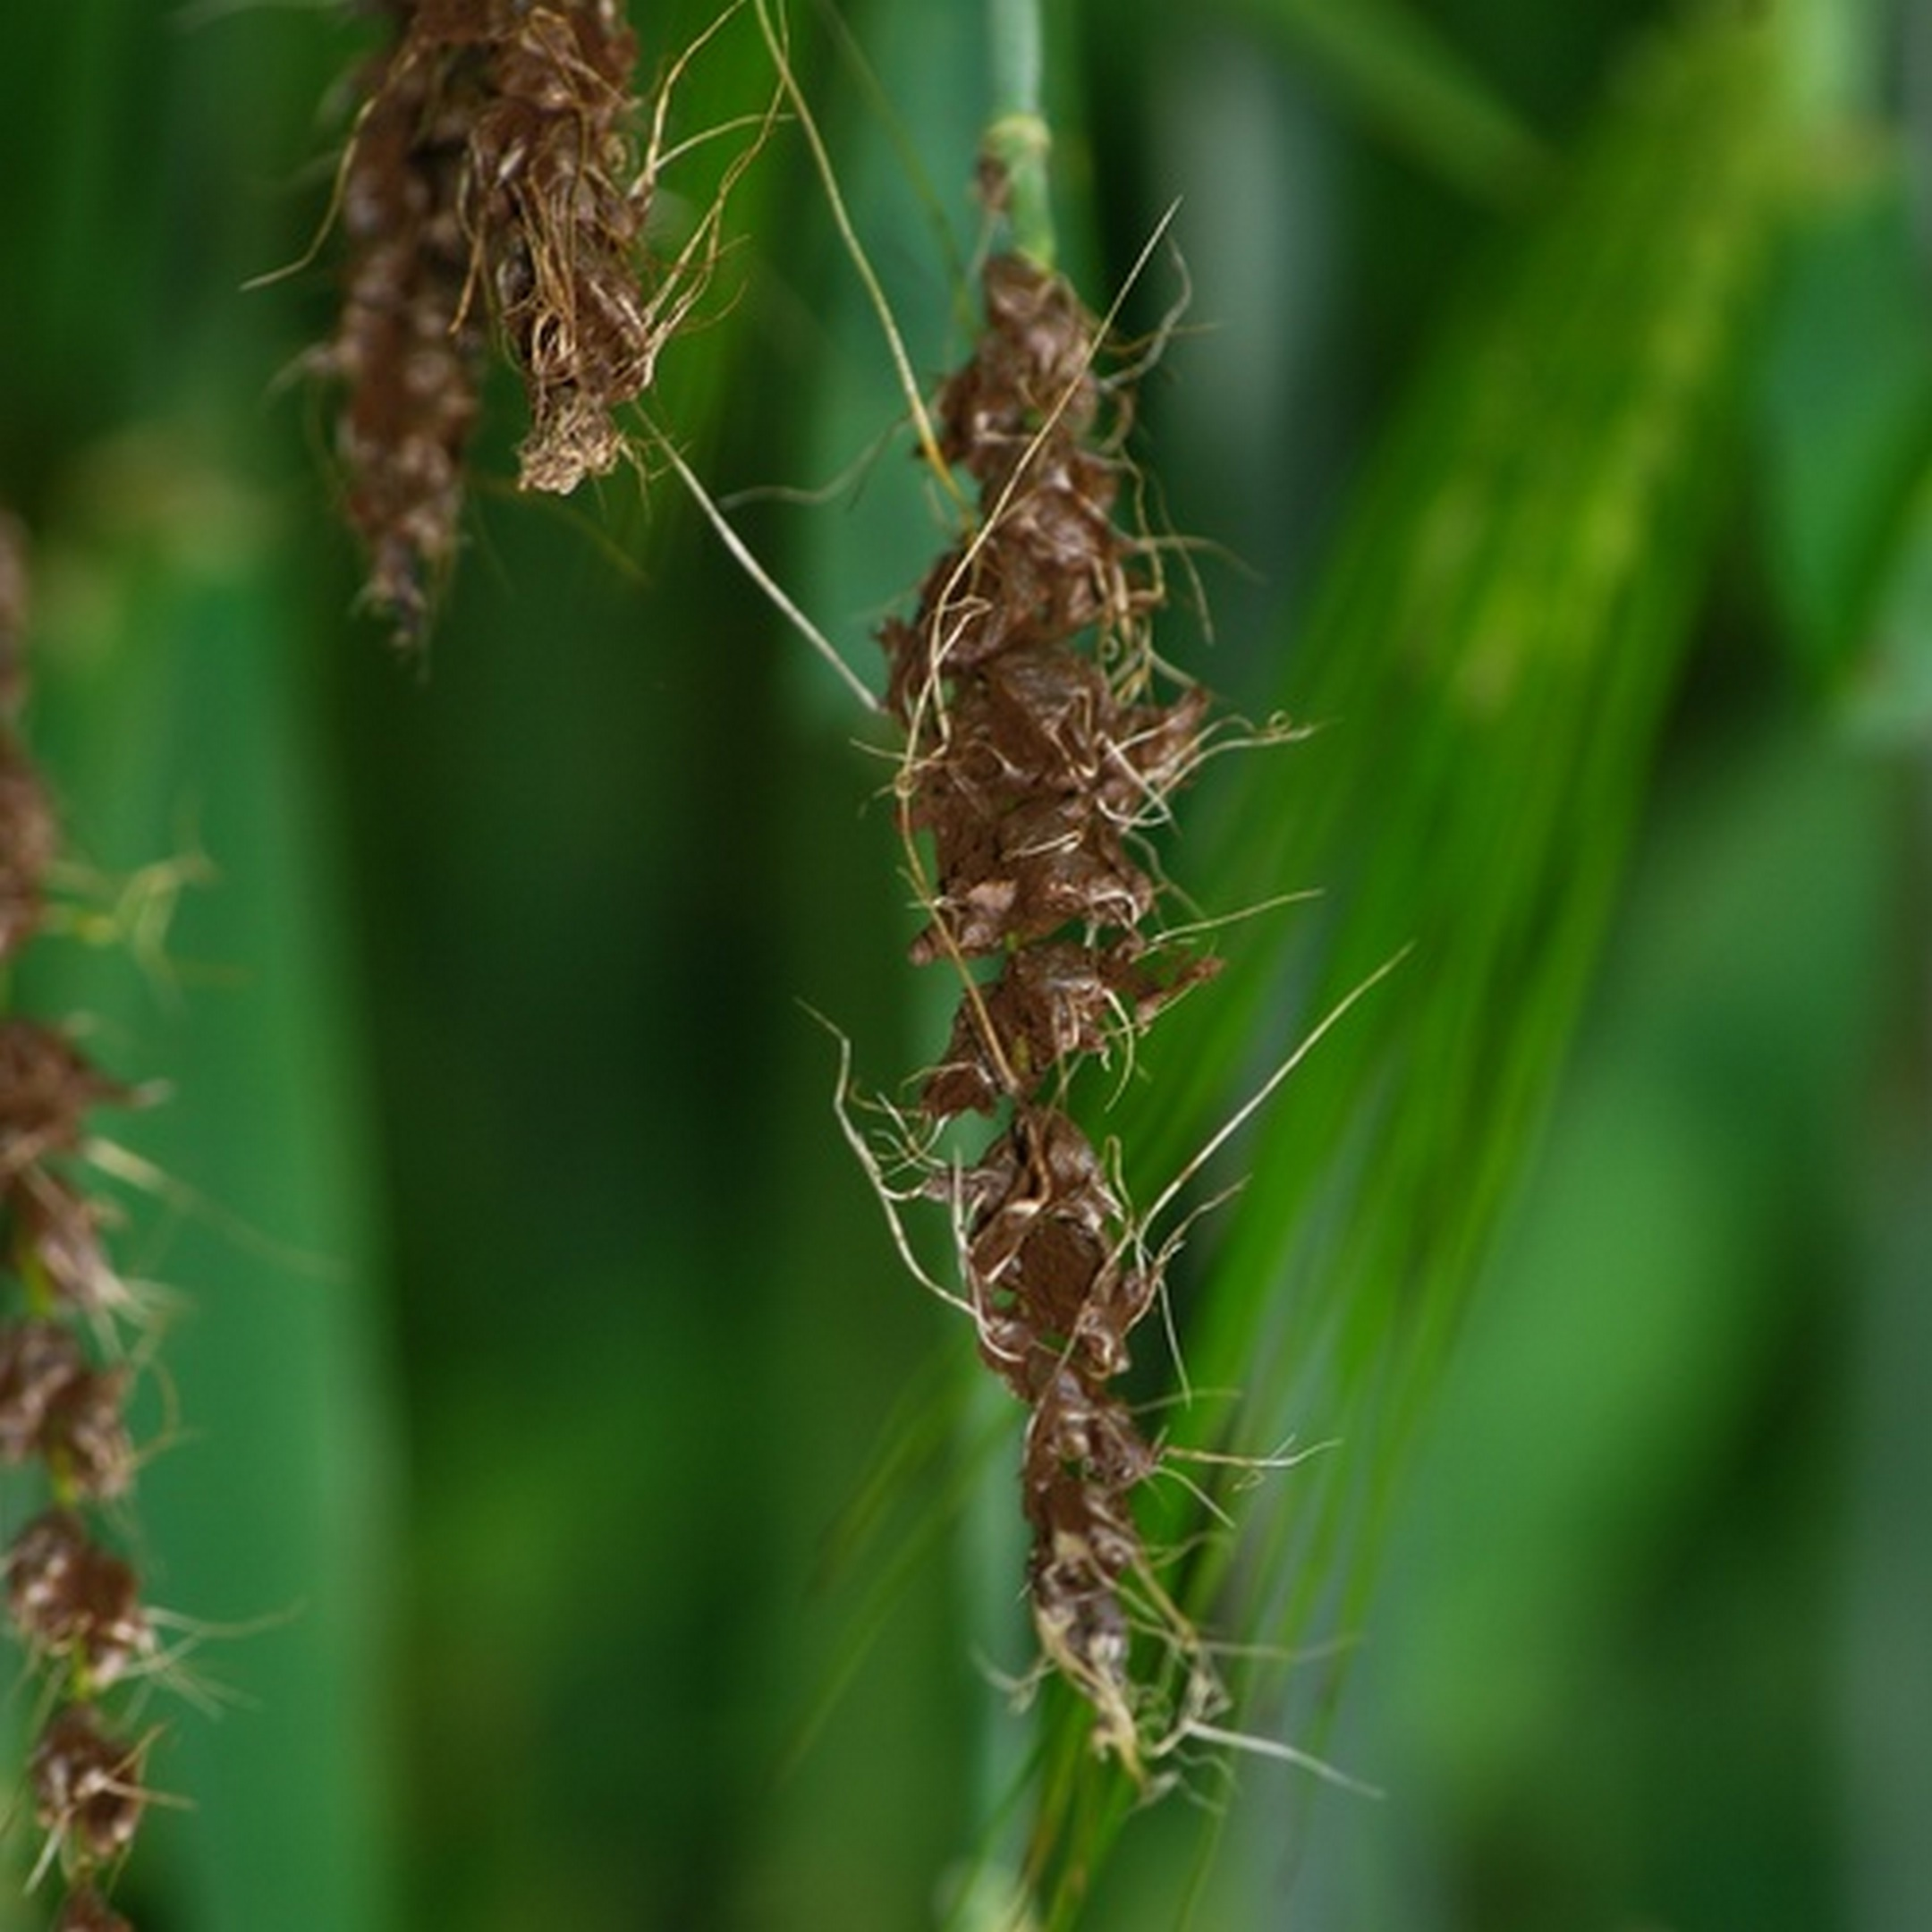Wheat Loose Smut: (824, 211, 1306, 1755)
